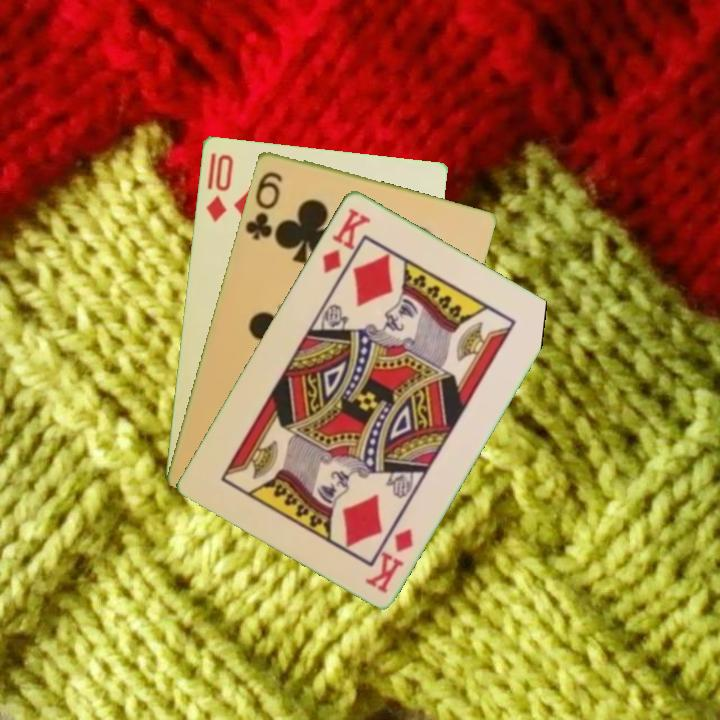10d: (202, 150, 236, 224)
6c: (241, 167, 285, 243)
Kd: (318, 204, 374, 276), (361, 524, 416, 596)
